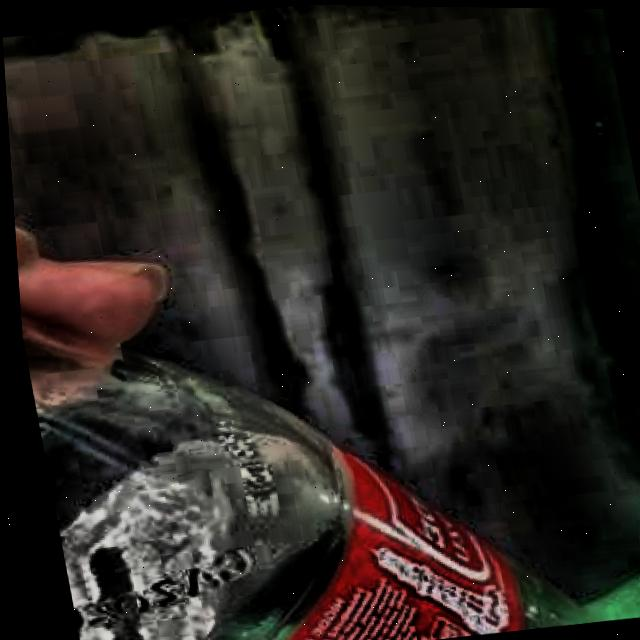glass: (20, 350, 586, 640)
